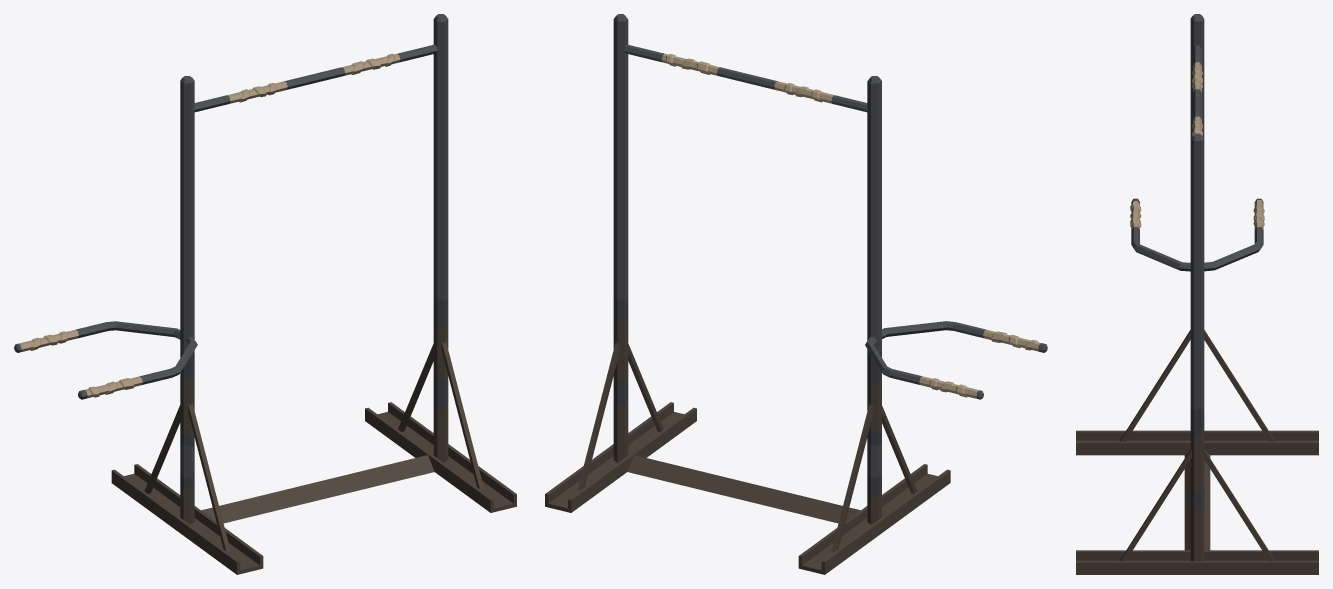
Rendered from SM_Prop_Chin_Up_Bar_01.glb.
3 views of the same model, side by side, from view 1: azimuth 30°, elevation 25°; view 2: azimuth 150°, elevation 25°; view 3: azimuth 270°, elevation 25° (orthographic). The views are drawn at different scales.
Parts seen in each view (by area): view 1: SM_Prop_Chin_Up_Bar_01; view 2: SM_Prop_Chin_Up_Bar_01; view 3: SM_Prop_Chin_Up_Bar_01.
Boxes of the visible parts, left/top/right/bottom form: SM_Prop_Chin_Up_Bar_01: left=14, top=14, right=516, bottom=574; SM_Prop_Chin_Up_Bar_01: left=545, top=14, right=1047, bottom=574; SM_Prop_Chin_Up_Bar_01: left=1076, top=14, right=1318, bottom=574.
Size of the model in its own units: 2.47 by 2.6 by 1.32.
1 material, 1 textured.
